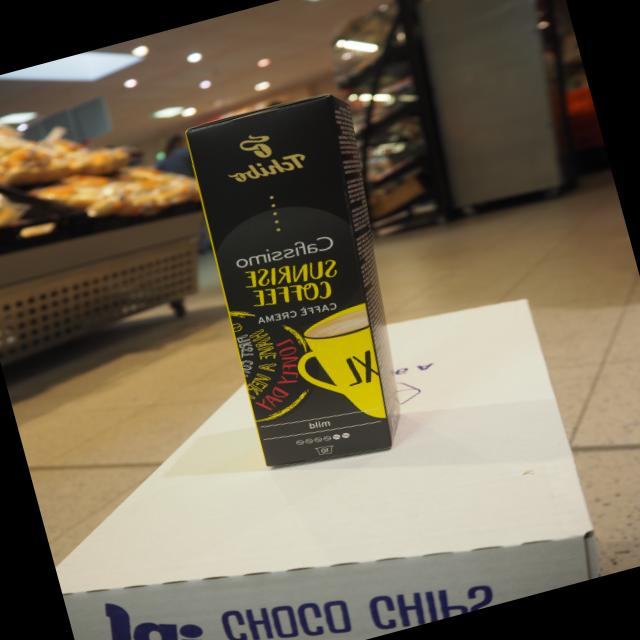Simo Sunrise: (181, 93, 397, 470)
